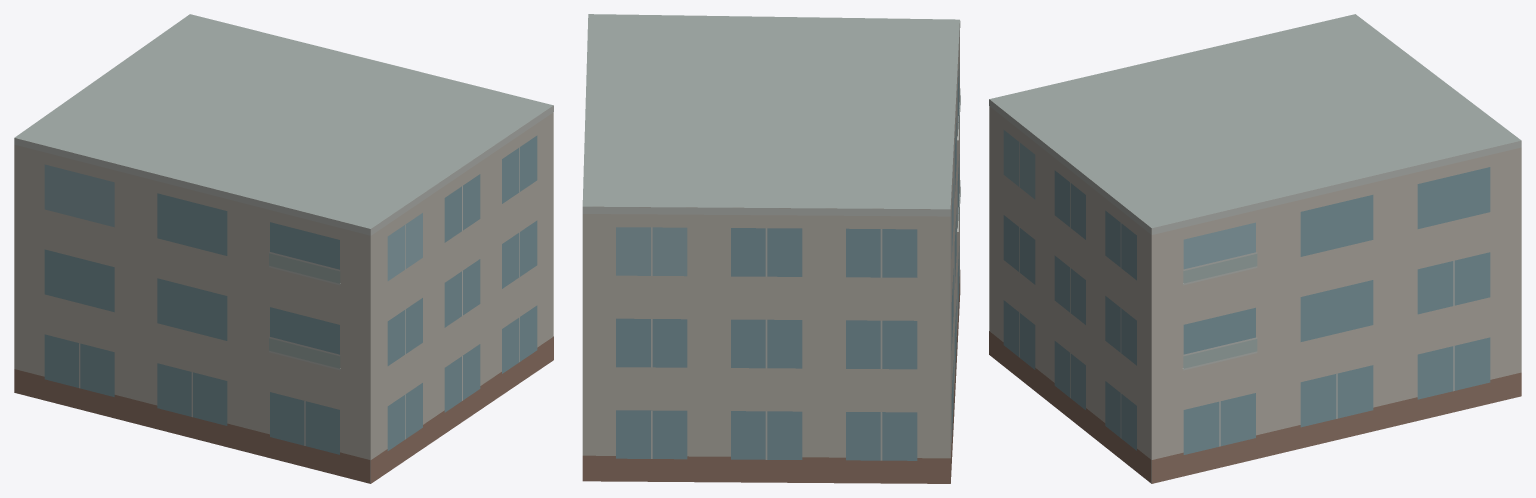
The model's file is survey-upis-32704379.glb.
3 views of the same model, side by side, from view 1: azimuth 30°, elevation 25°; view 2: azimuth 150°, elevation 25°; view 3: azimuth 270°, elevation 25° (orthographic). The views are drawn at different scales.
Visible parts, largest first — view 1: survey-upis-32704379.tmp; view 2: survey-upis-32704379.tmp; view 3: survey-upis-32704379.tmp.
Boxes of the visible parts, x1,y1,x2,y2 form: survey-upis-32704379.tmp: [14, 14, 553, 483]; survey-upis-32704379.tmp: [582, 14, 960, 483]; survey-upis-32704379.tmp: [989, 14, 1521, 483].
Size of the model in its own units: 16.46 by 9.15 by 17.29.
